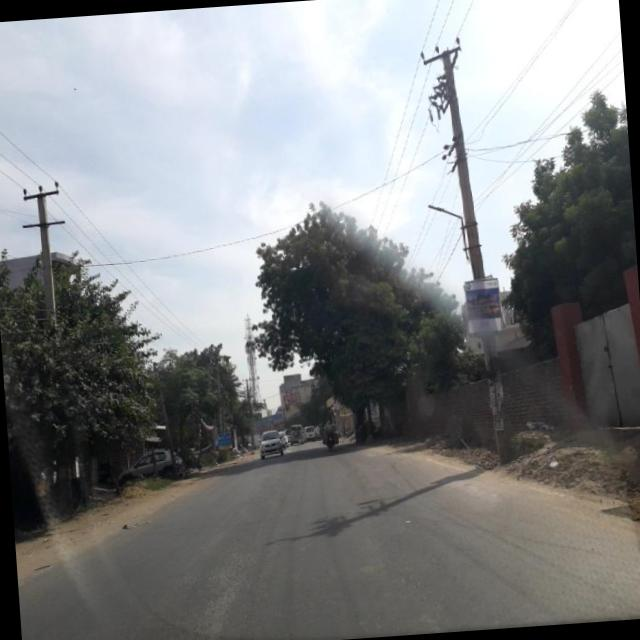crack: (156, 542, 275, 640)
